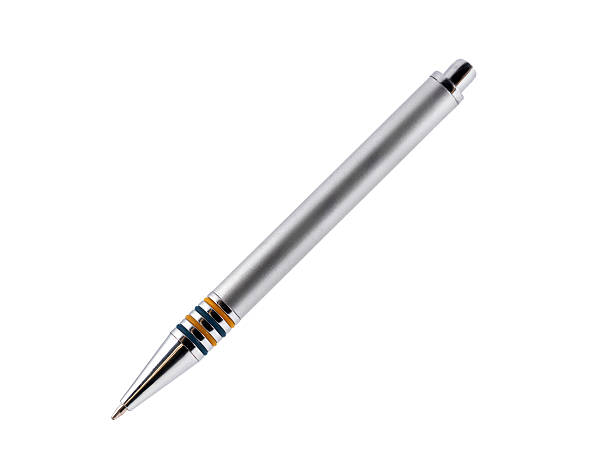pen: (107, 54, 487, 426)
